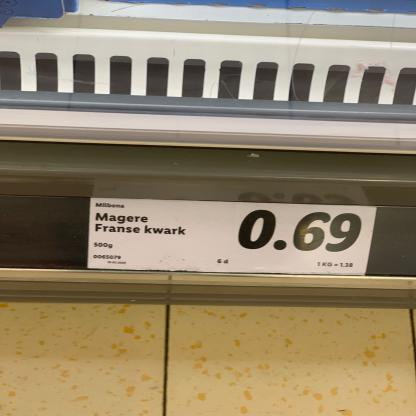prtg: (88, 198, 378, 277)
